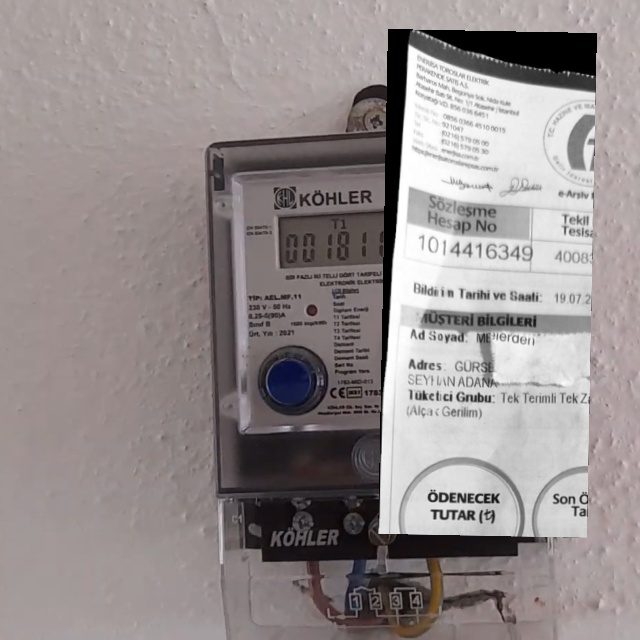electricity-bill: (378, 29, 597, 538)
